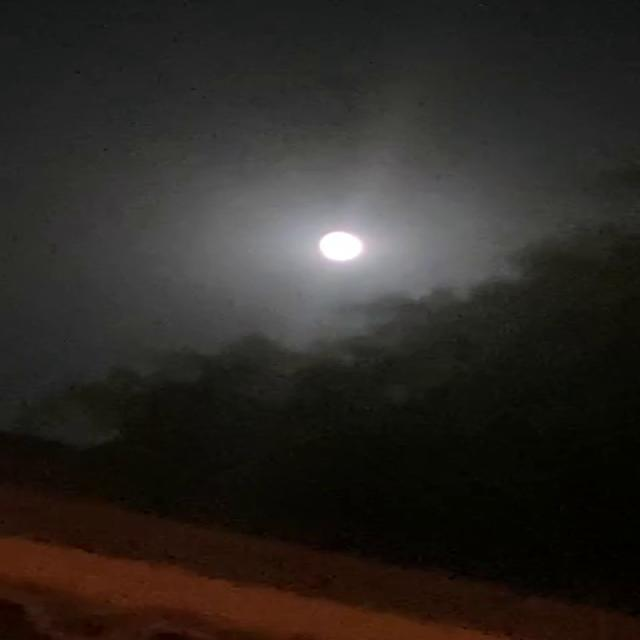moon: (264, 226, 348, 270)
